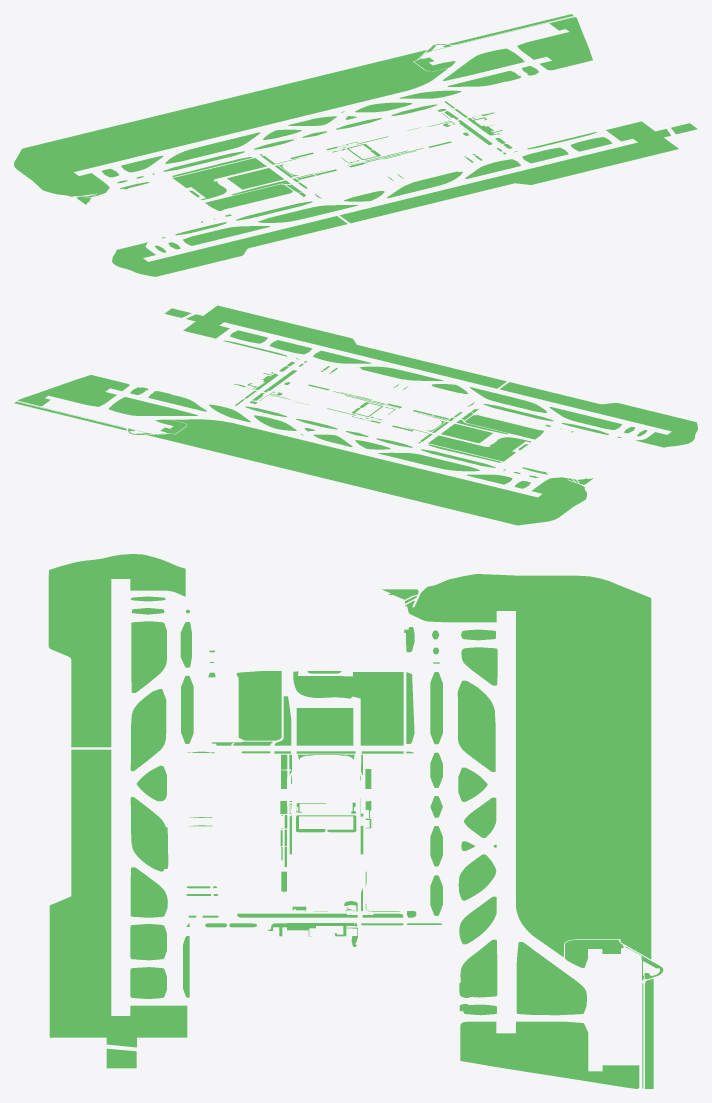
The model's file is Grass_0806.fbx.
The picture shows the model from 3 angles, top to bottom: view 1: azimuth 30°, elevation 25°; view 2: azimuth 150°, elevation 25°; view 3: azimuth 270°, elevation 25°; orthographic projection. The views are drawn at different scales.
Parts seen in each view (by area): view 1: polySurface3661; view 2: polySurface3661; view 3: polySurface3661.
Boxes of the visible parts, bbox=[...] form: polySurface3661: bbox=[14, 14, 697, 276]; polySurface3661: bbox=[14, 305, 697, 525]; polySurface3661: bbox=[48, 554, 663, 1088].
Size of the model in its own units: 4929 by 0.2231 by 2395.
